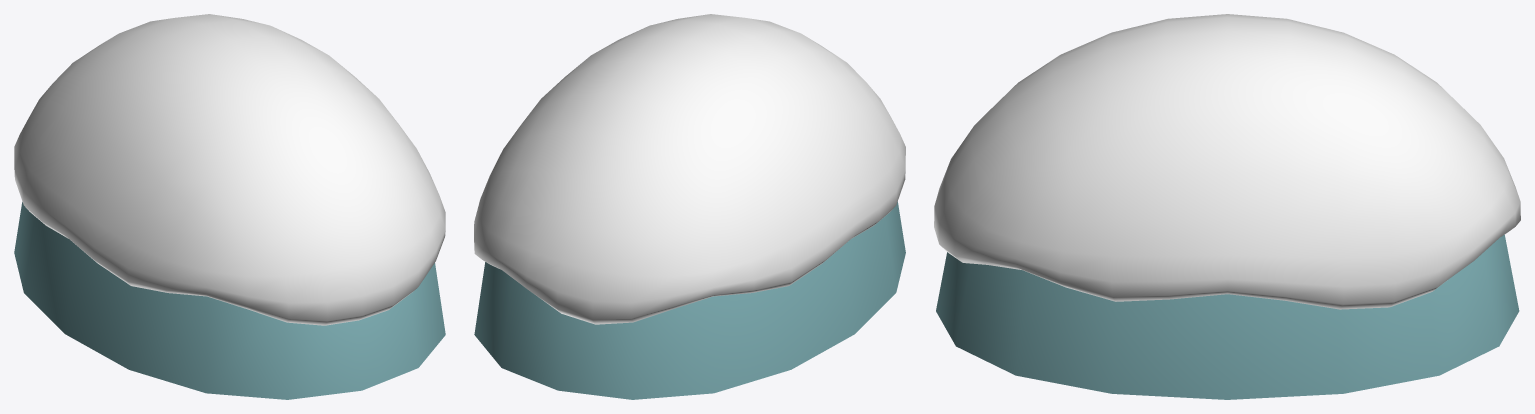
File: buisson-neige.gltf
3 renders of one model, left to right at view 1: azimuth 30°, elevation 25°; view 2: azimuth 150°, elevation 25°; view 3: azimuth 270°, elevation 25°, orthographic. The views are drawn at different scales.
Parts seen in each view (by area): view 1: buisson, buisson.001; view 2: buisson, buisson.001; view 3: buisson, buisson.001.
Part boxes in pixels (<box>): buisson: <box>14,14,445,325</box>; buisson.001: <box>14,202,445,399</box>; buisson: <box>474,14,905,324</box>; buisson.001: <box>474,201,905,399</box>; buisson: <box>934,14,1520,309</box>; buisson.001: <box>936,235,1519,399</box>.
Size of the model in its own units: 0.6486 by 0.4742 by 0.9019.
